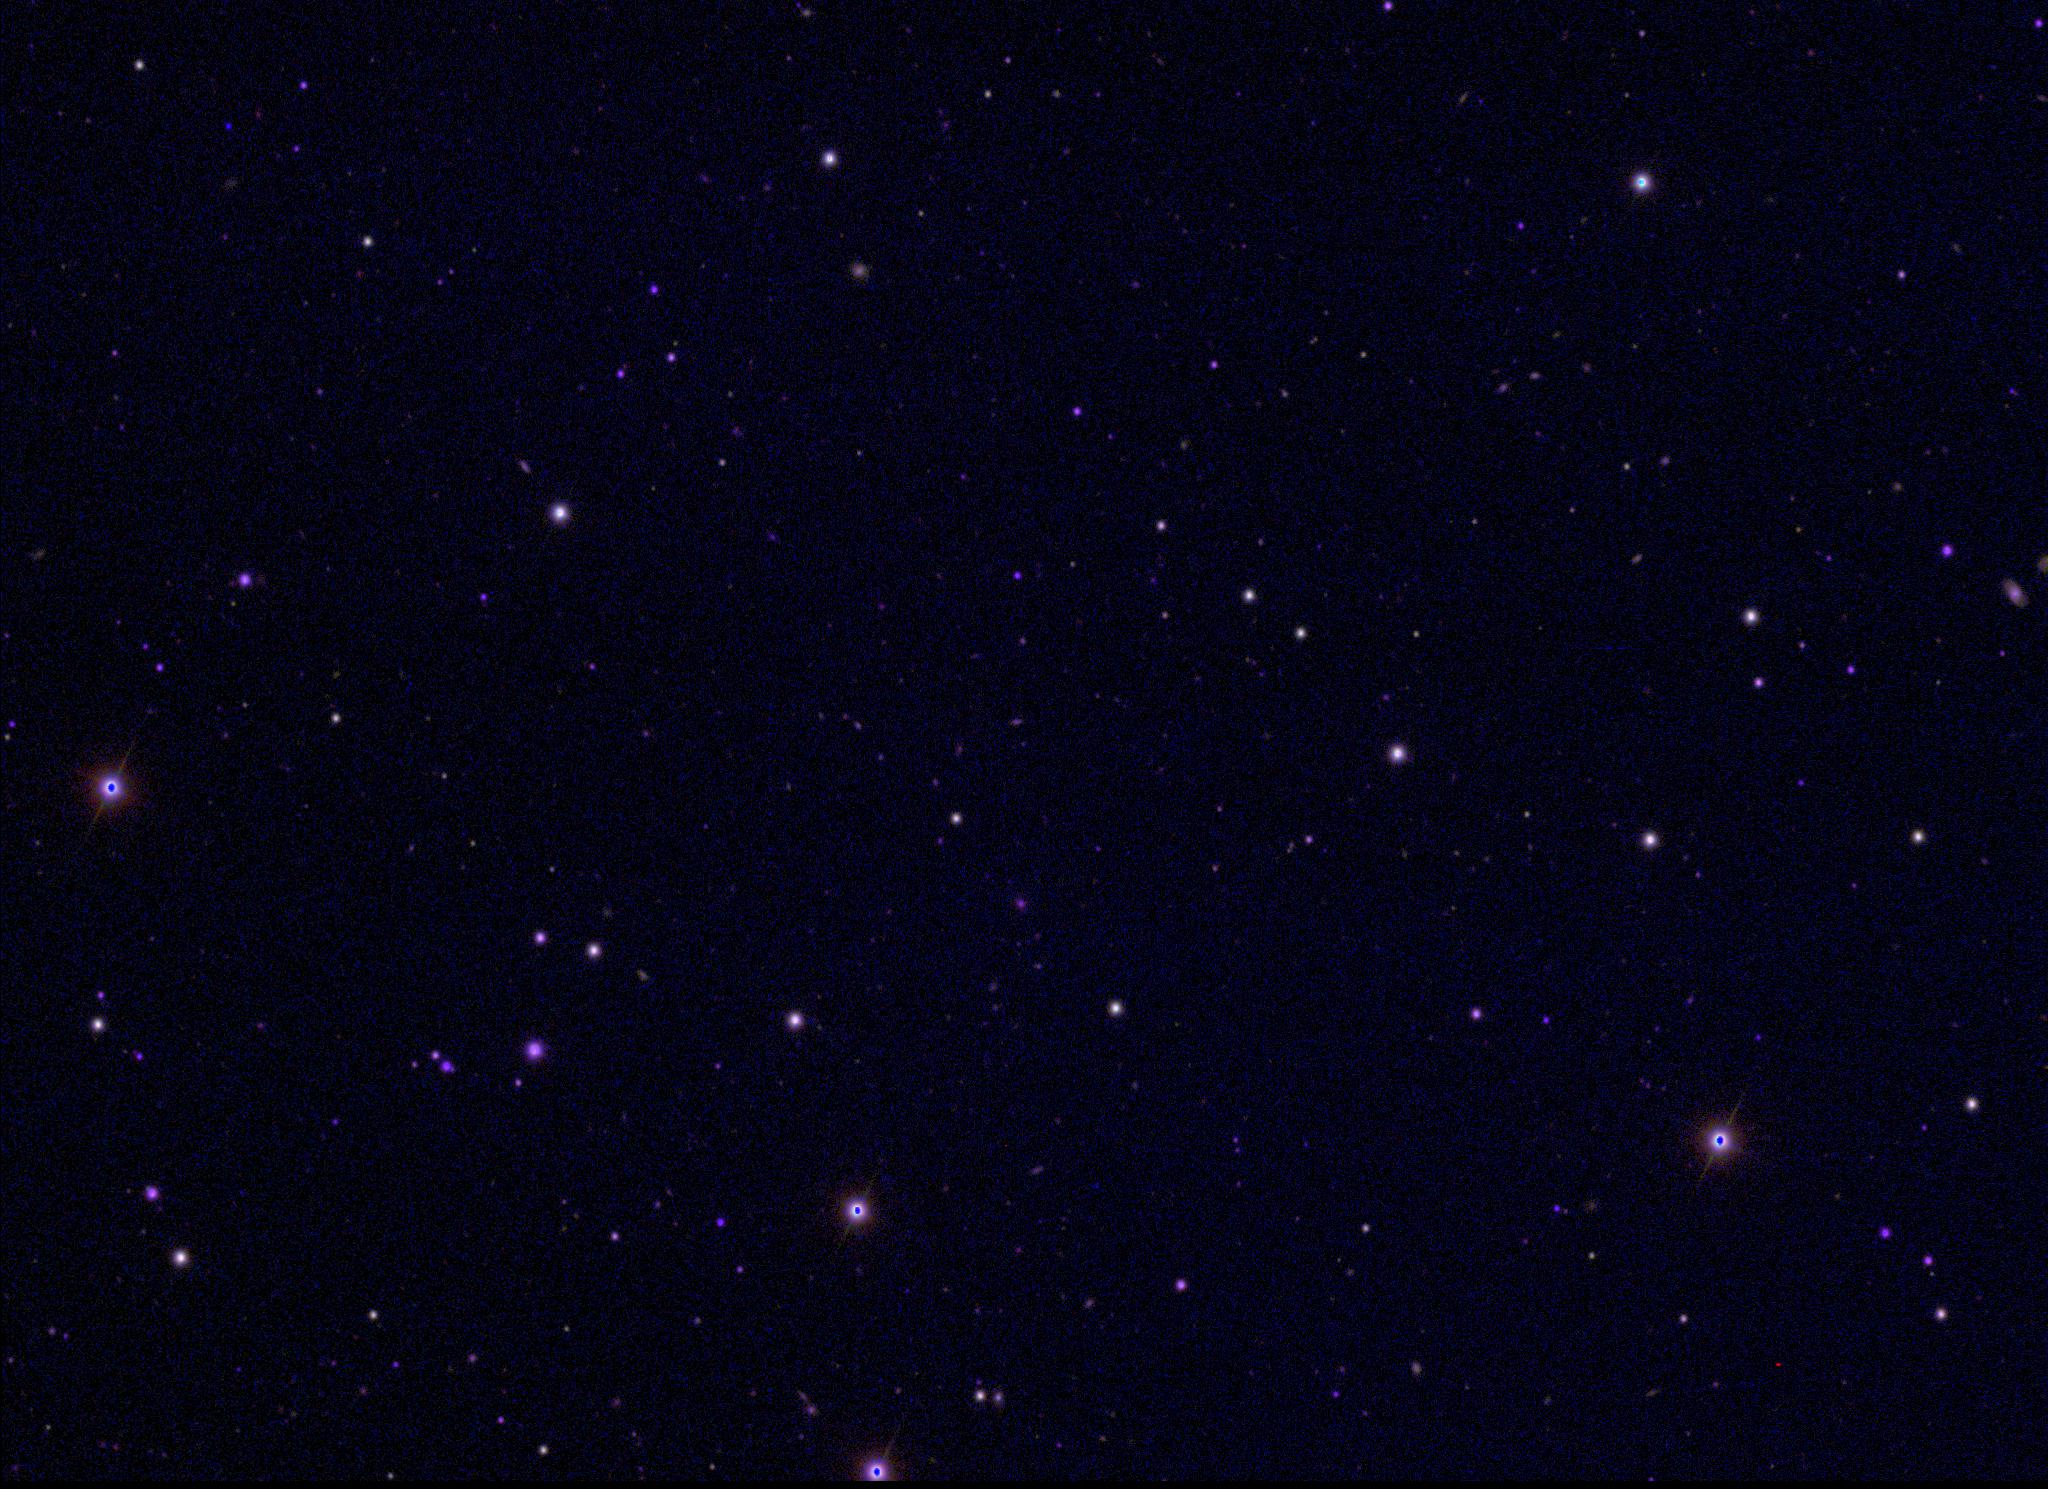L: (221, 119, 235, 134)
